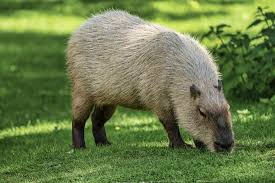capivara: (67, 6, 238, 160)
